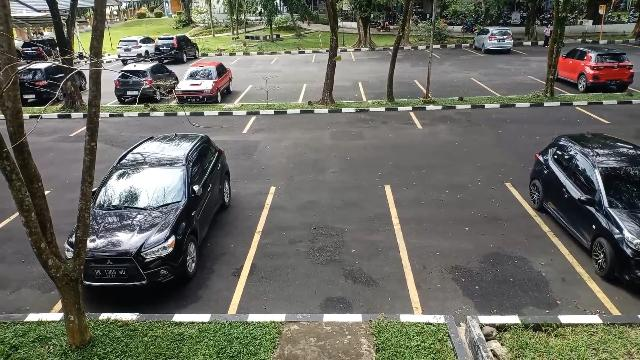empty: (250, 176, 398, 312), (397, 178, 535, 312), (415, 106, 589, 130), (246, 112, 414, 132), (238, 81, 306, 103), (422, 77, 486, 97), (304, 82, 362, 102), (488, 77, 546, 96), (362, 82, 422, 100), (433, 42, 473, 58), (314, 50, 354, 64), (352, 48, 392, 62), (276, 52, 314, 66), (234, 54, 276, 66)
occupied: (79, 175, 247, 314), (532, 170, 640, 314), (558, 50, 636, 94), (174, 70, 238, 105), (473, 32, 515, 56)
